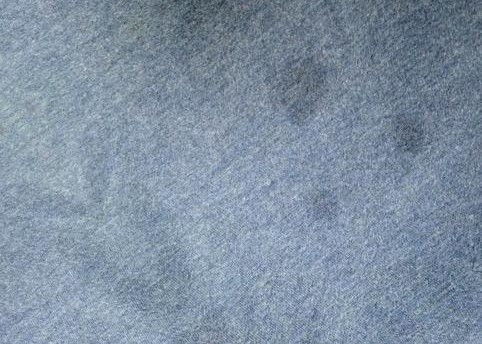stain: (266, 46, 334, 126), (392, 109, 433, 172), (305, 180, 348, 228)
